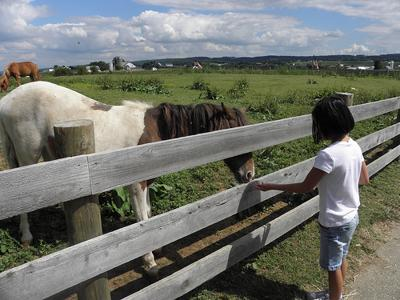person: (254, 94, 366, 300)
